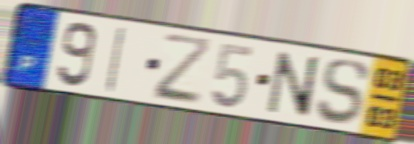5: (209, 41, 256, 111)
9: (57, 21, 98, 88)
I: (103, 24, 129, 95)
N: (265, 49, 321, 121)
S: (315, 58, 371, 126)
Z: (153, 32, 215, 107)
